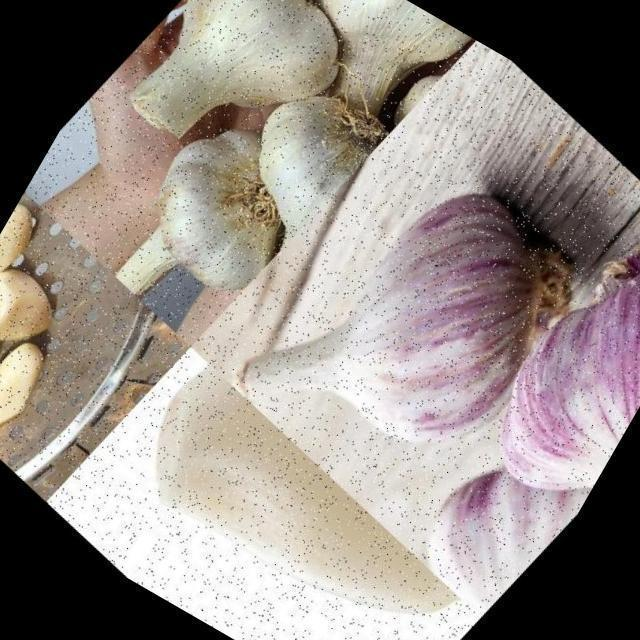garlic: (194, 89, 640, 575), (62, 339, 503, 640), (425, 164, 640, 543), (70, 80, 342, 368), (83, 0, 400, 230), (154, 32, 406, 319), (393, 382, 615, 632), (0, 188, 152, 471), (232, 0, 476, 167)
